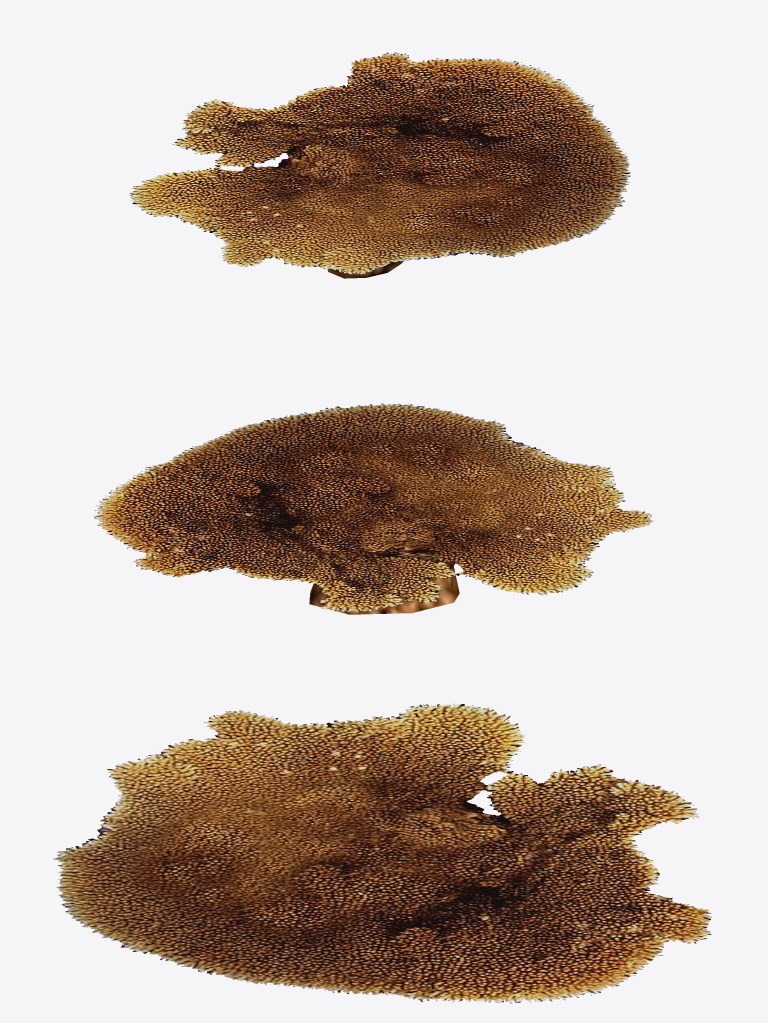
Rendered from Coral_02.fbx.
3 views of the same model, one above another, from view 1: azimuth 30°, elevation 25°; view 2: azimuth 150°, elevation 25°; view 3: azimuth 270°, elevation 25° (orthographic). The views are drawn at different scales.
Visible parts, largest first — view 1: Coral_02; view 2: Coral_02; view 3: Coral_02.
Part boxes in pixels (x1=…): Coral_02: x1=128, y1=52, x2=630, y2=278; Coral_02: x1=94, y1=403, x2=653, y2=614; Coral_02: x1=53, y1=703, x2=712, y2=1003.
Size of the model in its own units: 1 by 0.1647 by 1.
